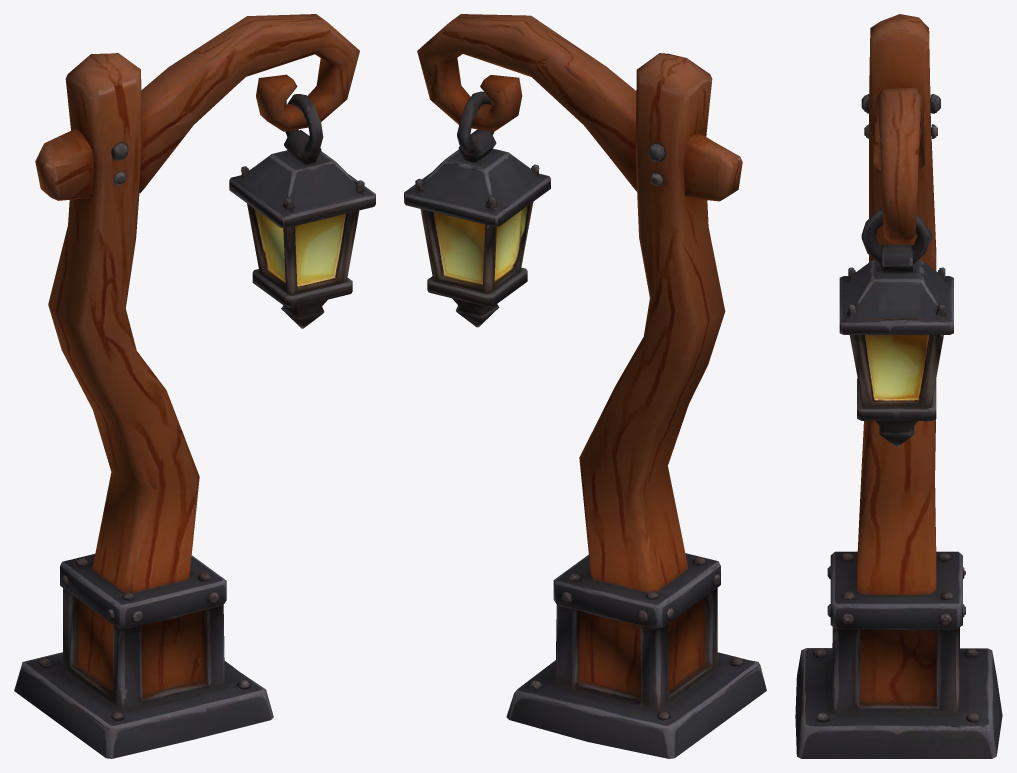
File: sei-la-sksksks.fbx
The picture shows the model from 3 angles, left to right: view 1: azimuth 30°, elevation 25°; view 2: azimuth 150°, elevation 25°; view 3: azimuth 270°, elevation 25°; orthographic projection. The views are drawn at different scales.
Parts seen in each view (by area): view 1: rbg_gnarled_lantern_post_jDHgilnb_mesh; view 2: rbg_gnarled_lantern_post_jDHgilnb_mesh; view 3: rbg_gnarled_lantern_post_jDHgilnb_mesh.
Boxes of the visible parts, x1=… form: rbg_gnarled_lantern_post_jDHgilnb_mesh: x1=14, y1=14, x2=375, y2=758; rbg_gnarled_lantern_post_jDHgilnb_mesh: x1=404, y1=14, x2=766, y2=758; rbg_gnarled_lantern_post_jDHgilnb_mesh: x1=795, y1=14, x2=1002, y2=758.
Size of the model in its own units: 2.51 by 5 by 1.38.
Materials: 1 (1 with a texture image).
